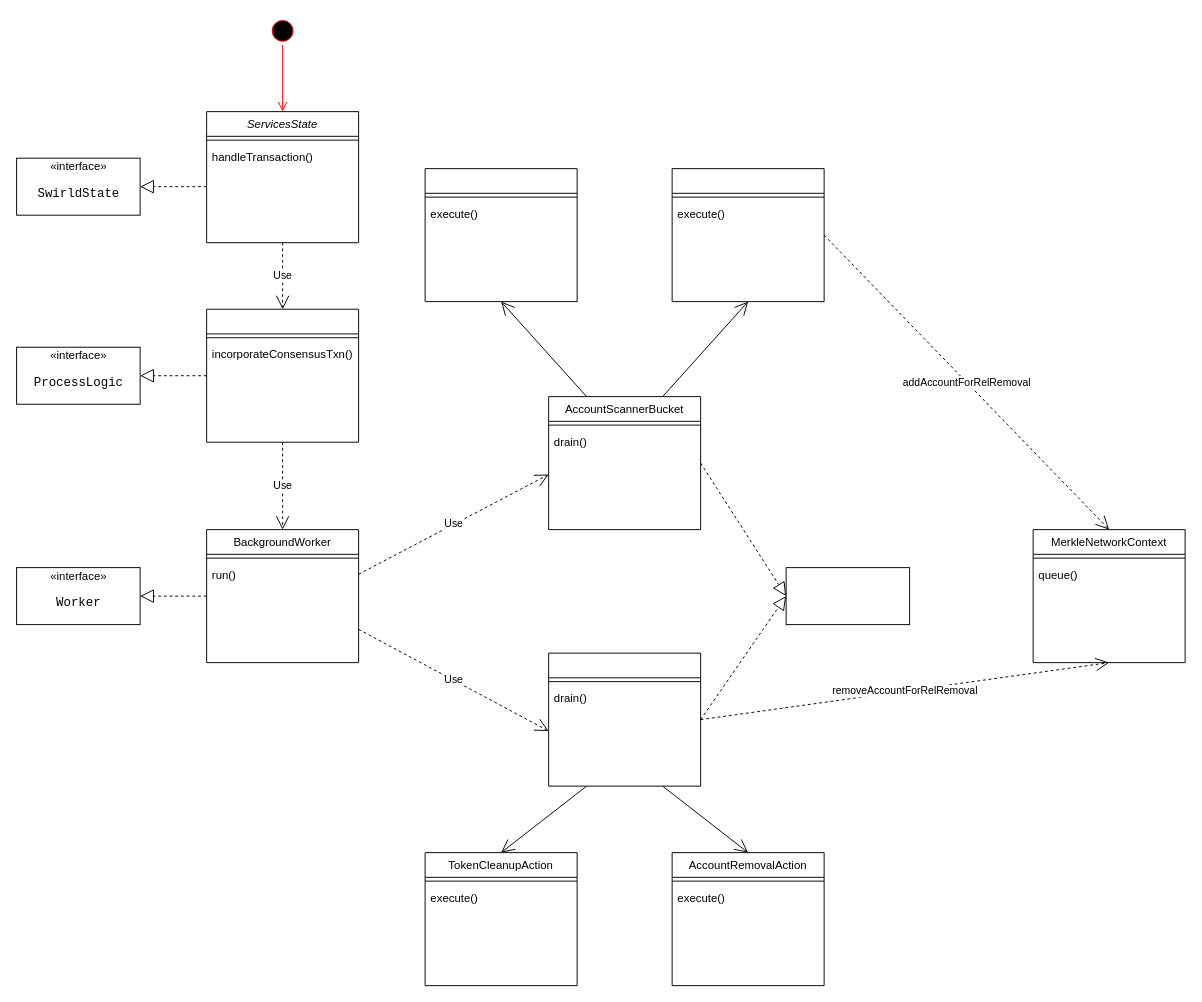
This 1202x1002 diagram has some shape labels left out. Each missing label, with the box of its shape:
AccountDeletionBucket: (548, 652, 701, 786)
AccountExpiryAction: (671, 168, 824, 302)
AccountRenewalAction: (424, 168, 577, 302)
AwareProcessLogic: (206, 308, 359, 442)
«interface» Bucket: (785, 567, 910, 625)
